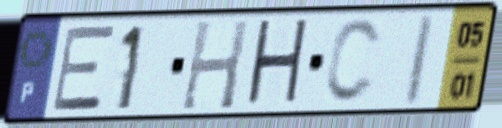1: (116, 22, 148, 113)
C: (321, 16, 385, 107)
E: (50, 22, 118, 114)
H: (177, 17, 252, 113), (242, 15, 312, 112)
I: (398, 11, 439, 111)
